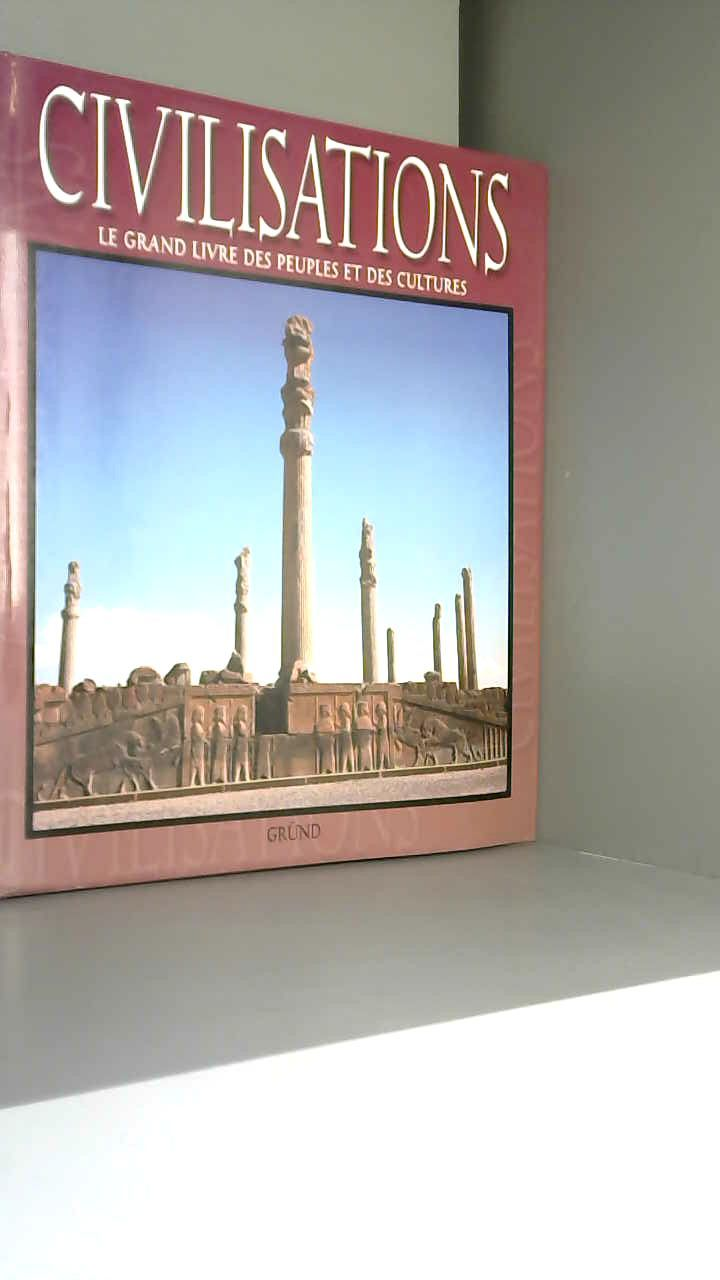book: (0, 41, 573, 921)
